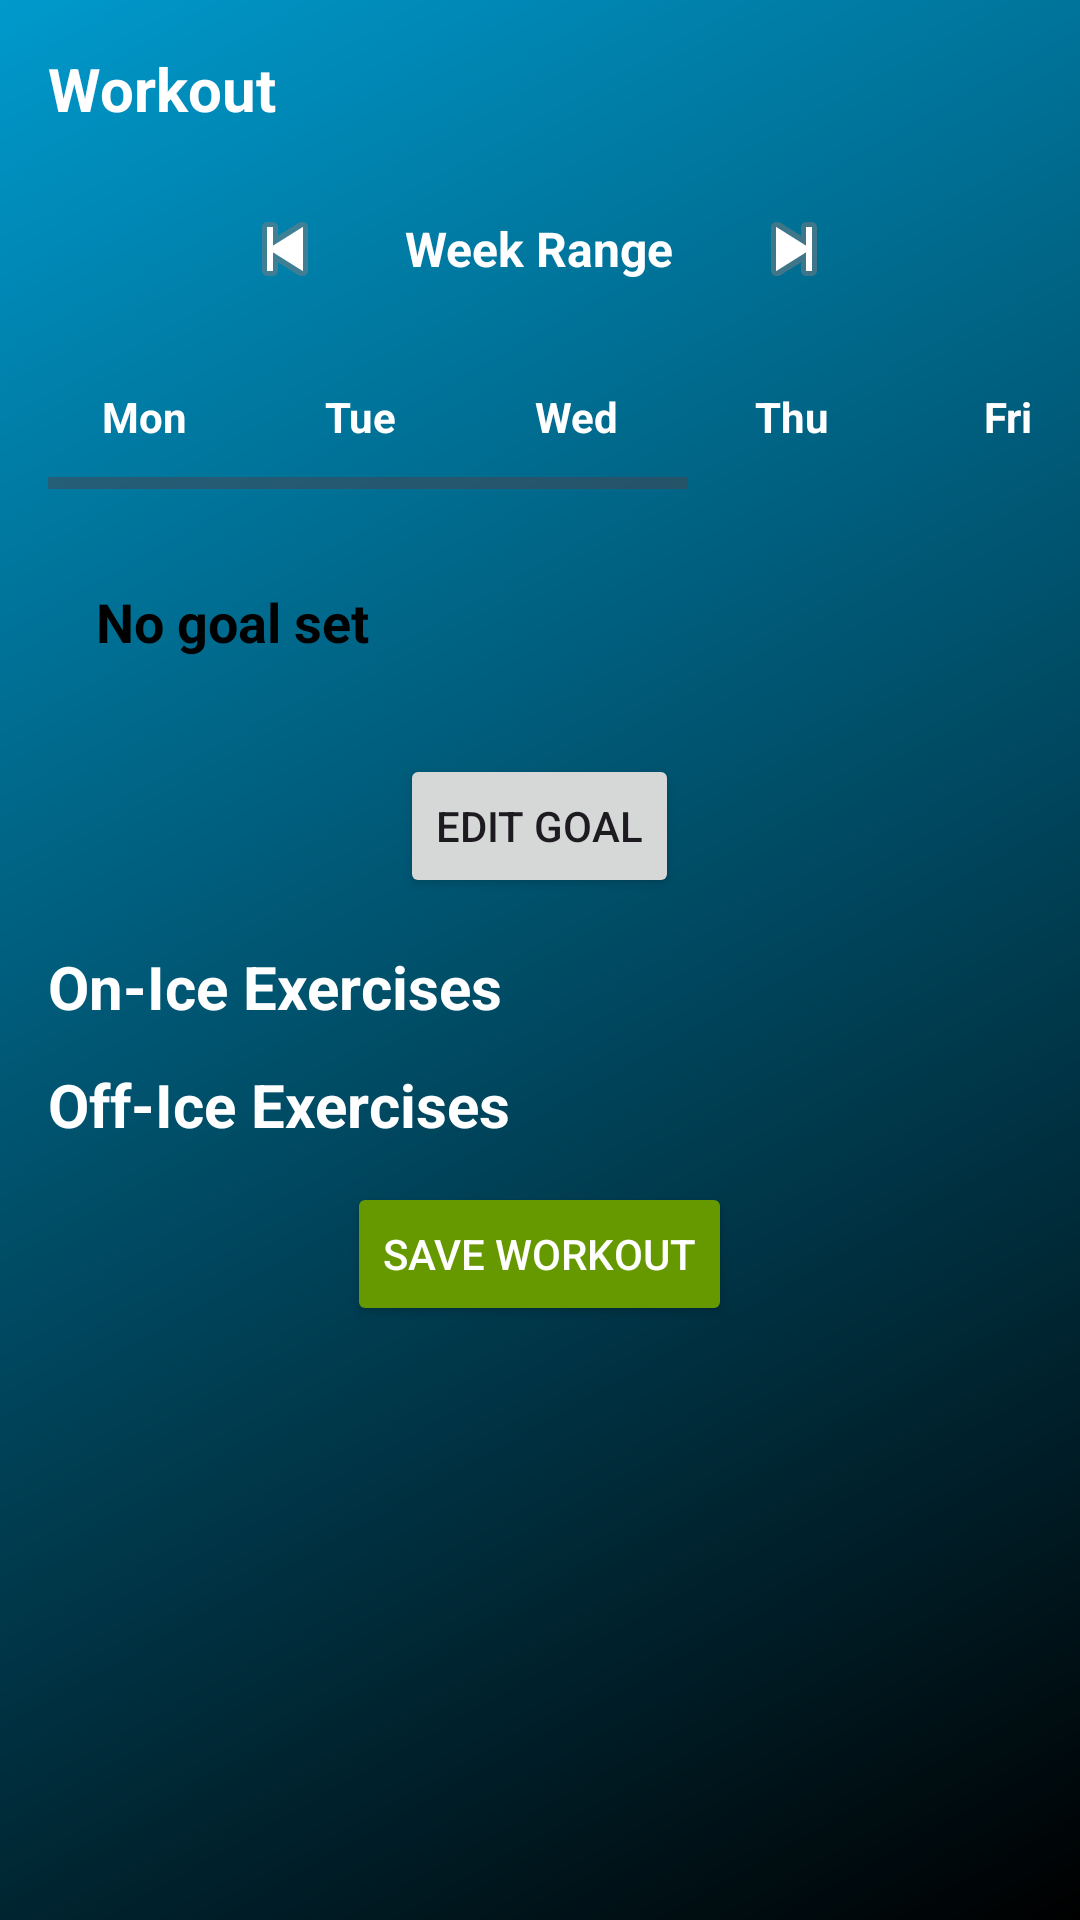

Where icons sit on this 1080px×1920px app screen, as (x1, y1, x2, y2):
Next Week: (771, 222, 817, 276)
Previous Week: (262, 222, 308, 276)
